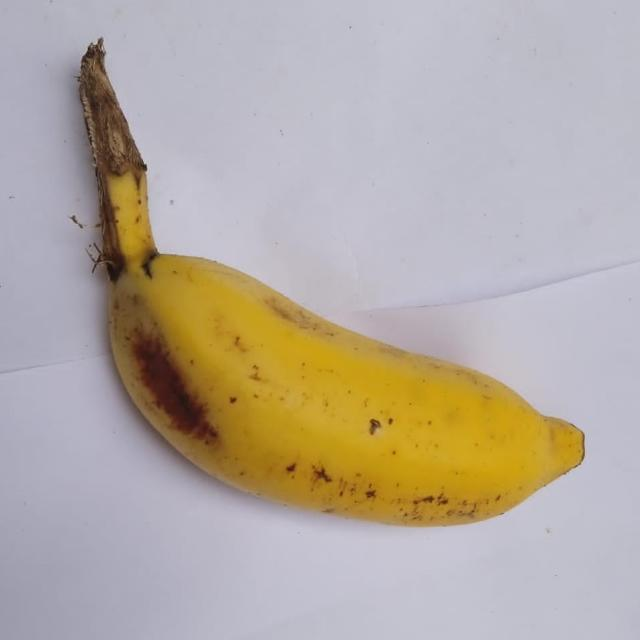banana: (80, 40, 583, 525)
